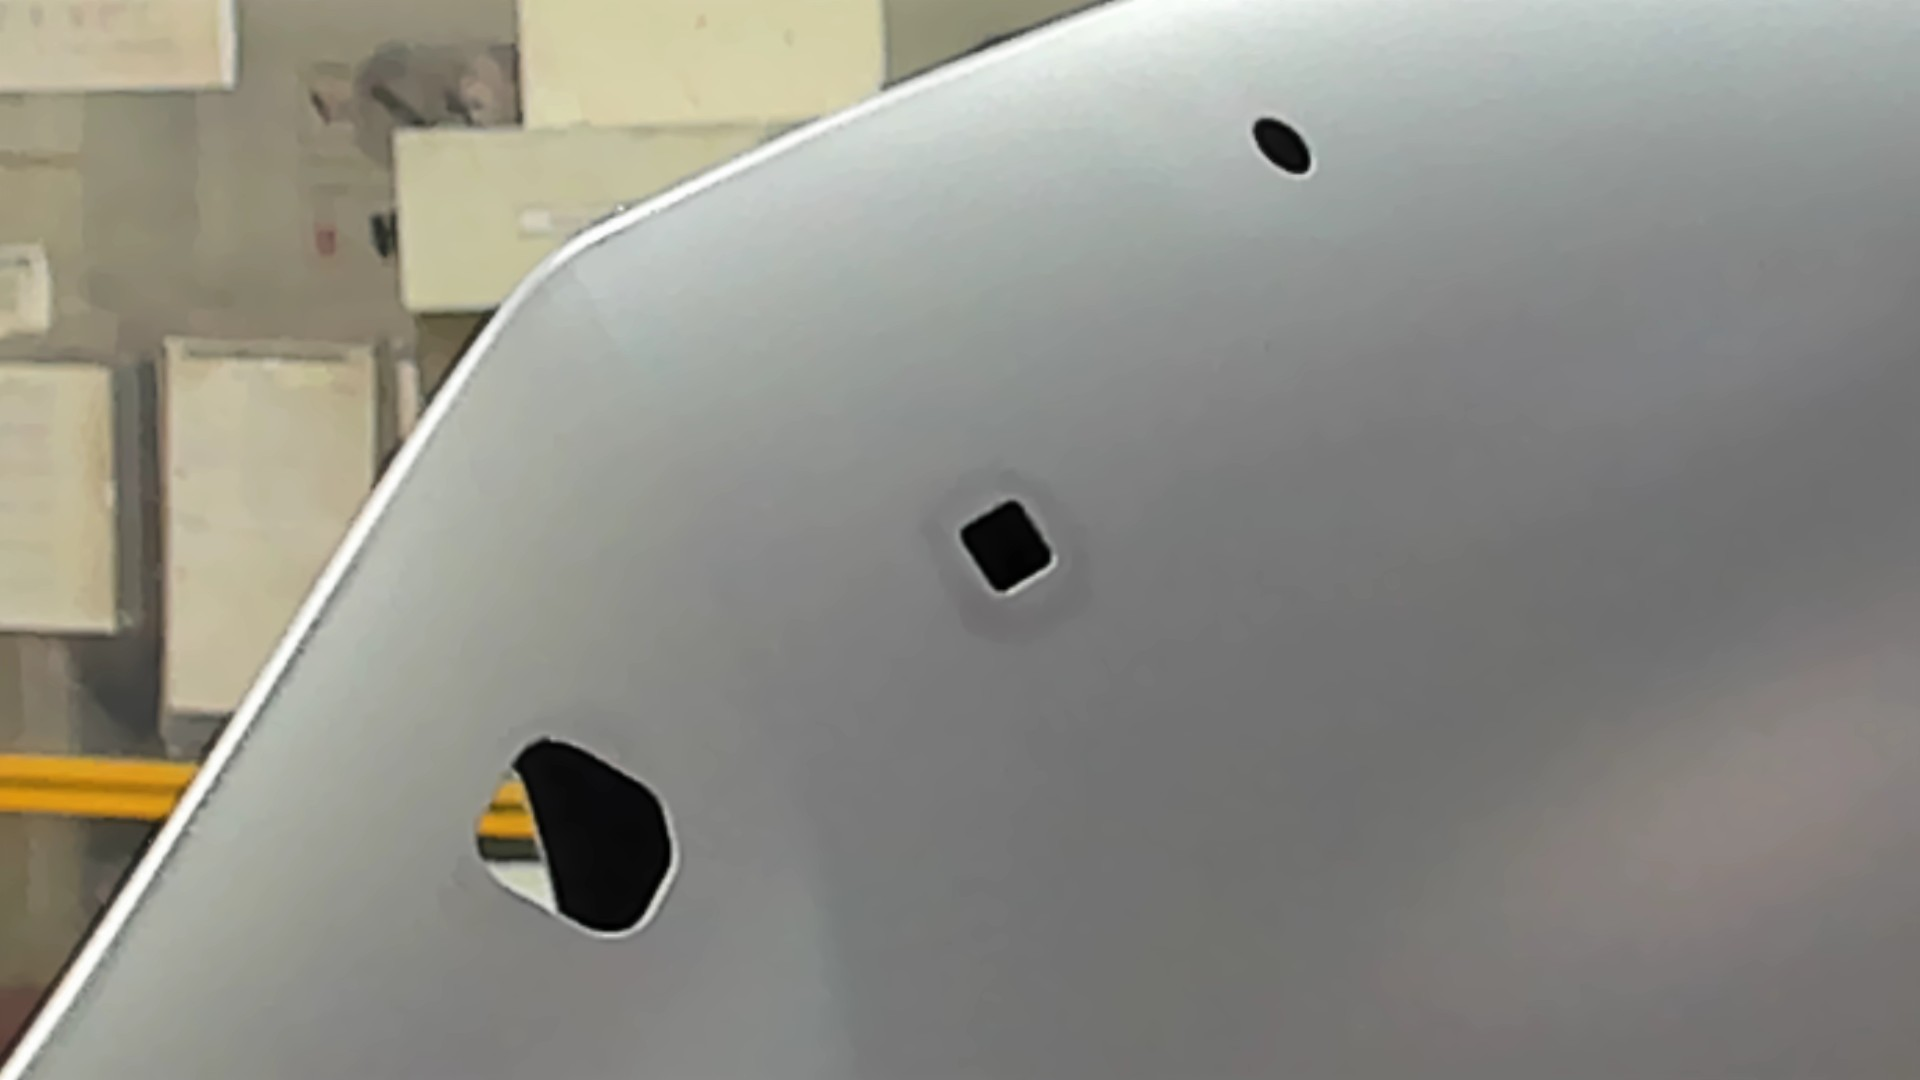chico: (1250, 113, 1313, 179)
grande: (469, 735, 682, 942)
mediano: (957, 496, 1058, 599)
